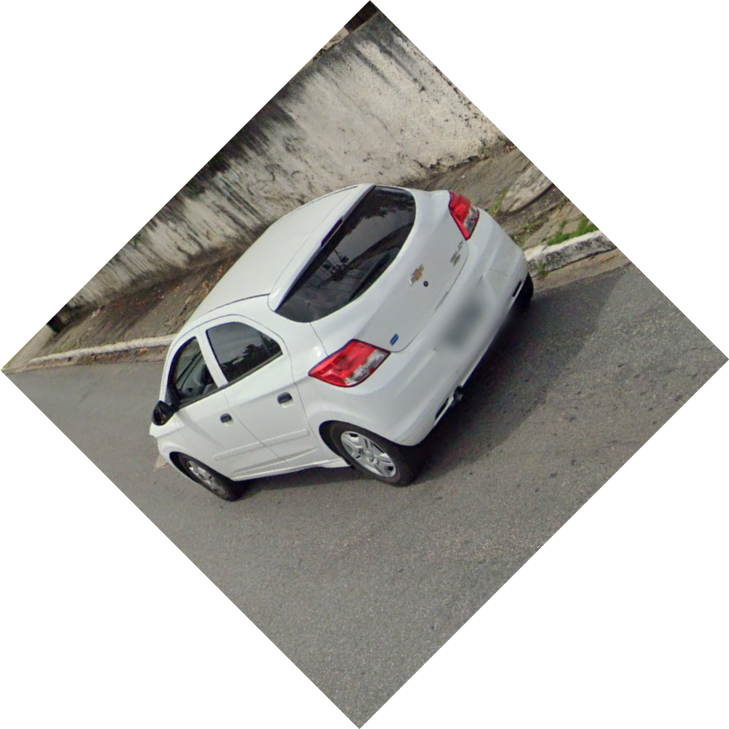car: (147, 182, 537, 500)
